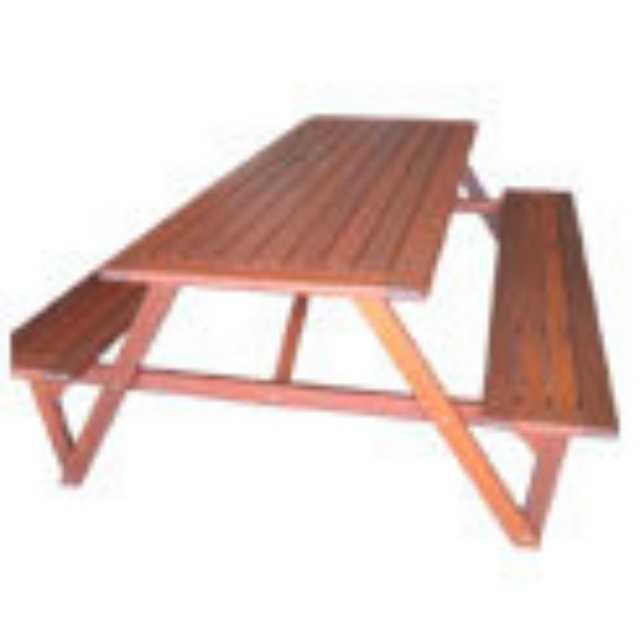obstacle: (10, 88, 630, 604)
